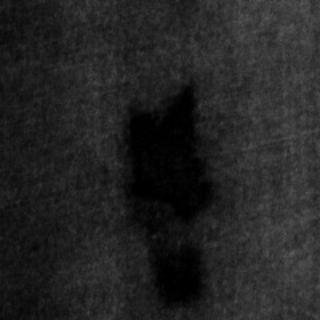patches: (119, 80, 211, 230), (142, 232, 206, 308)
